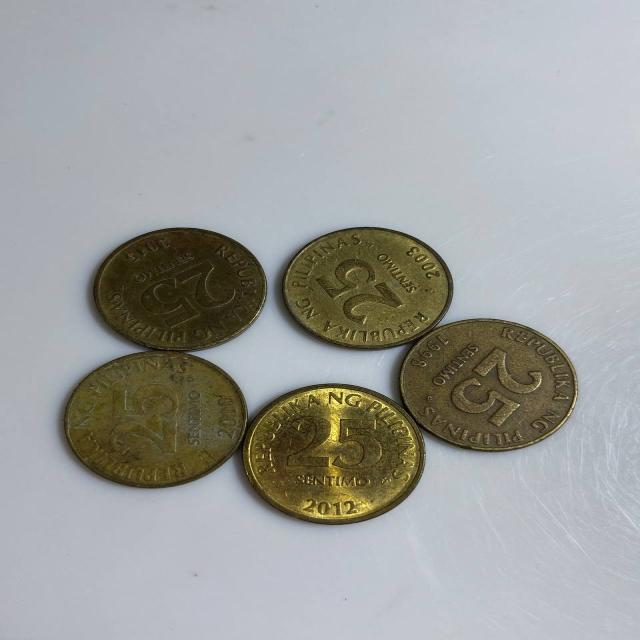25Cent_Old_Front: (317, 257, 409, 326), (450, 343, 532, 420), (143, 262, 238, 326), (292, 412, 390, 473), (110, 385, 189, 450)
